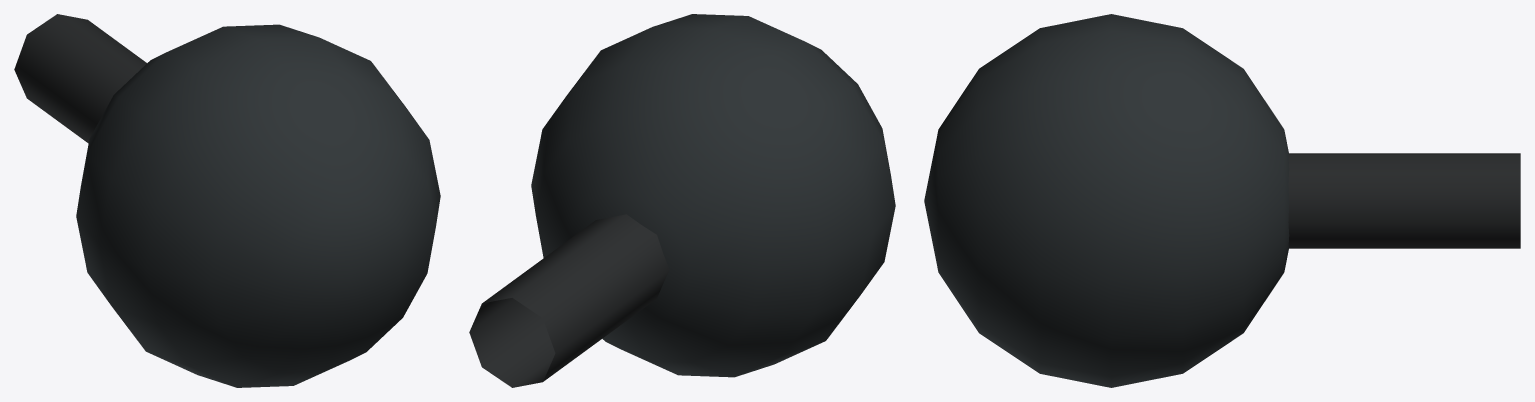
Rendered from Sphere_Vehicle_Arm_002.fbx.
3 renders of one model, left to right at view 1: azimuth 30°, elevation 25°; view 2: azimuth 150°, elevation 25°; view 3: azimuth 270°, elevation 25°, orthographic.
Visible parts, largest first — view 1: Sphere_Vehicle_Arm_002; view 2: Sphere_Vehicle_Arm_002; view 3: Sphere_Vehicle_Arm_002.
Boxes of the visible parts, x1=… form: Sphere_Vehicle_Arm_002: x1=14, y1=14, x2=440, y2=387; Sphere_Vehicle_Arm_002: x1=469, y1=14, x2=895, y2=387; Sphere_Vehicle_Arm_002: x1=924, y1=14, x2=1520, y2=387.
Size of the model in its own units: 35.45 by 56.5 by 35.45.
